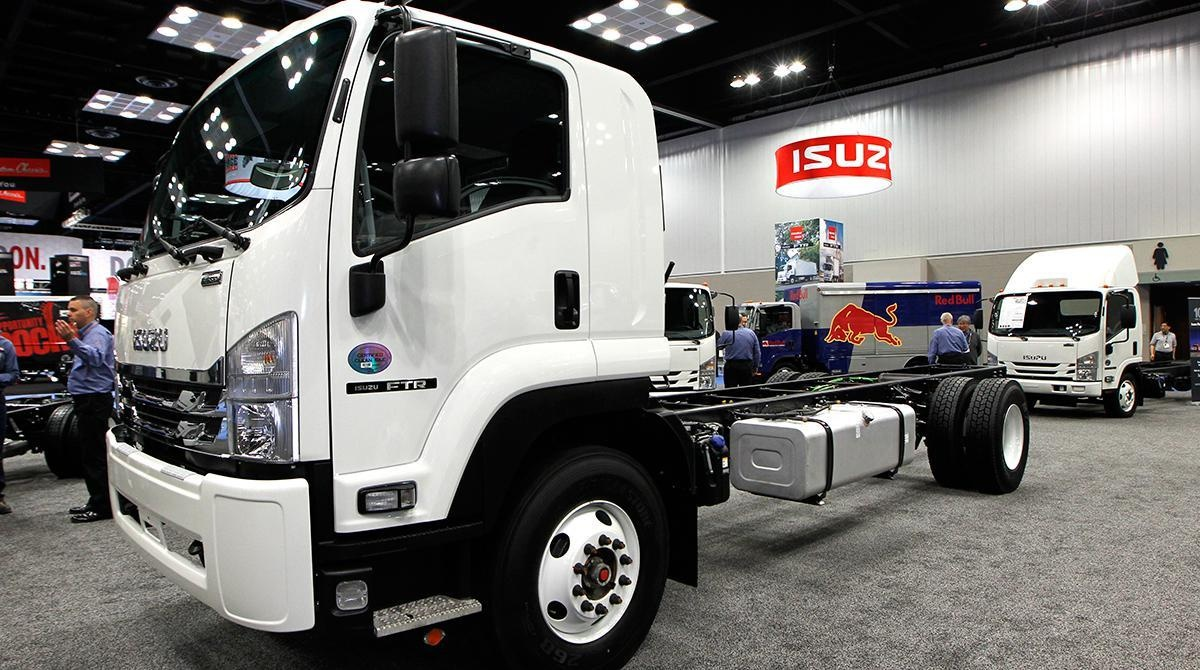truck: (106, 8, 1028, 659)
